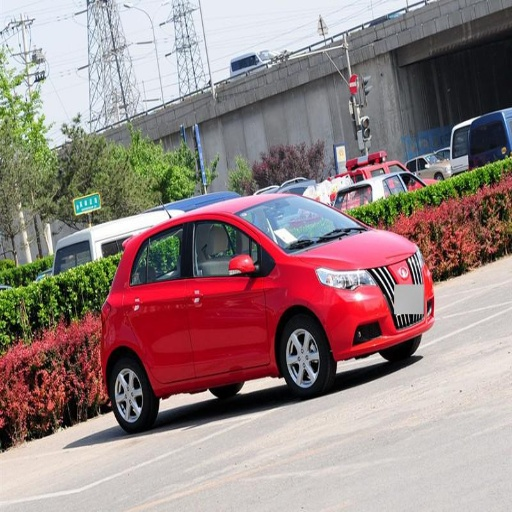front_bumper: (327, 258, 429, 358)
front_right_door: (191, 217, 266, 377)
front_right_light: (316, 264, 370, 292)
